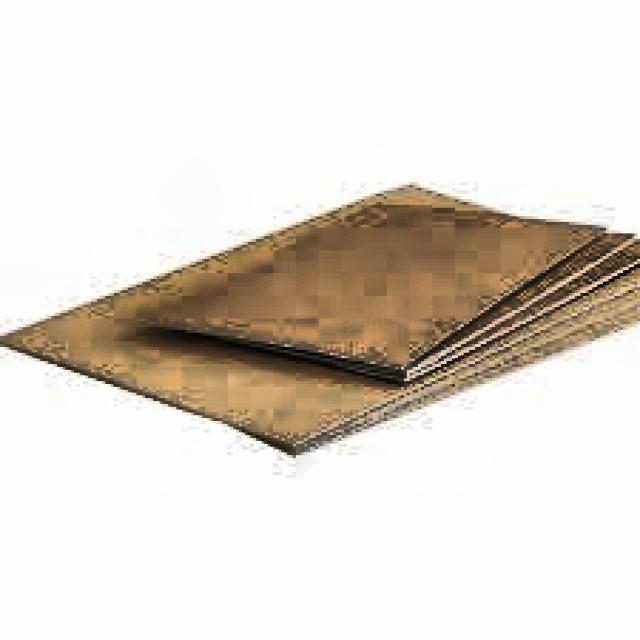Cardbox: (0, 166, 640, 466)
